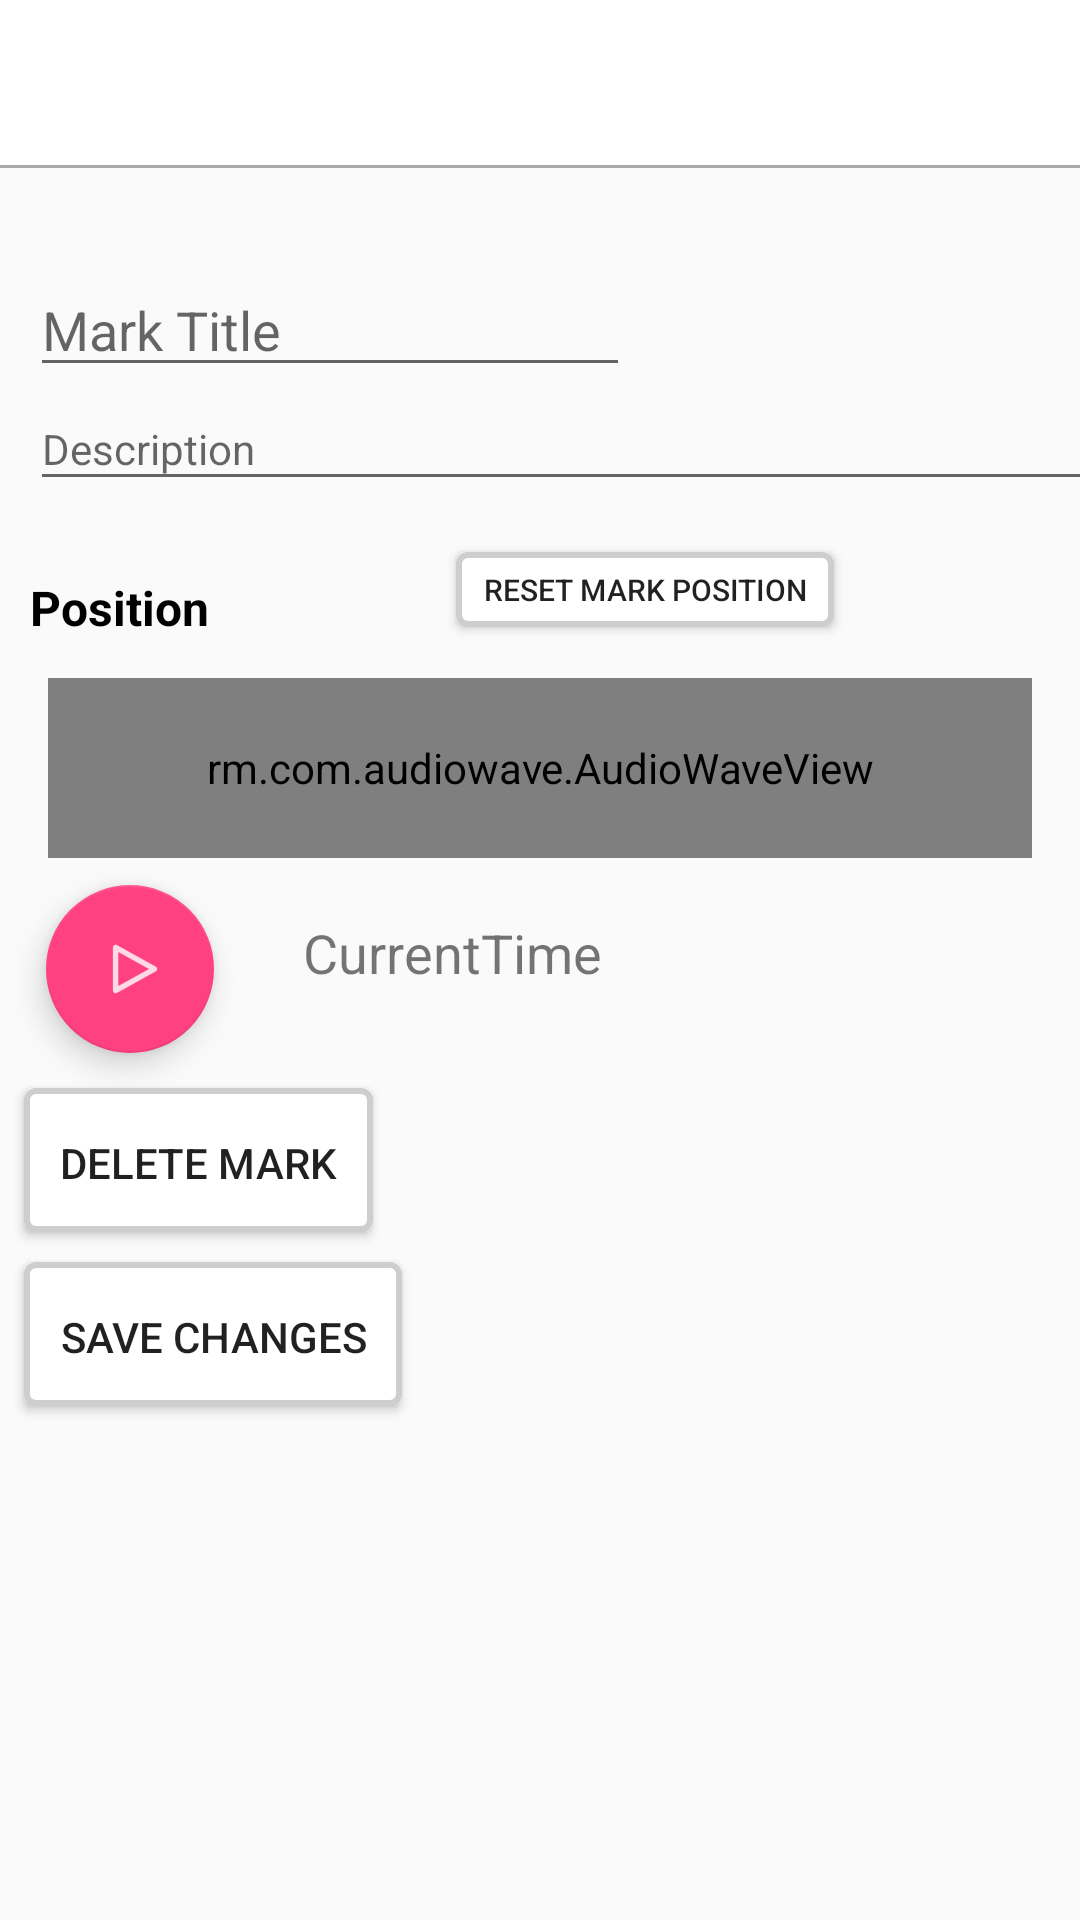

Icon click points for this 1080px x 1920px phone screenshot, format (x=x, y=y):
play: (x=130, y=969)
